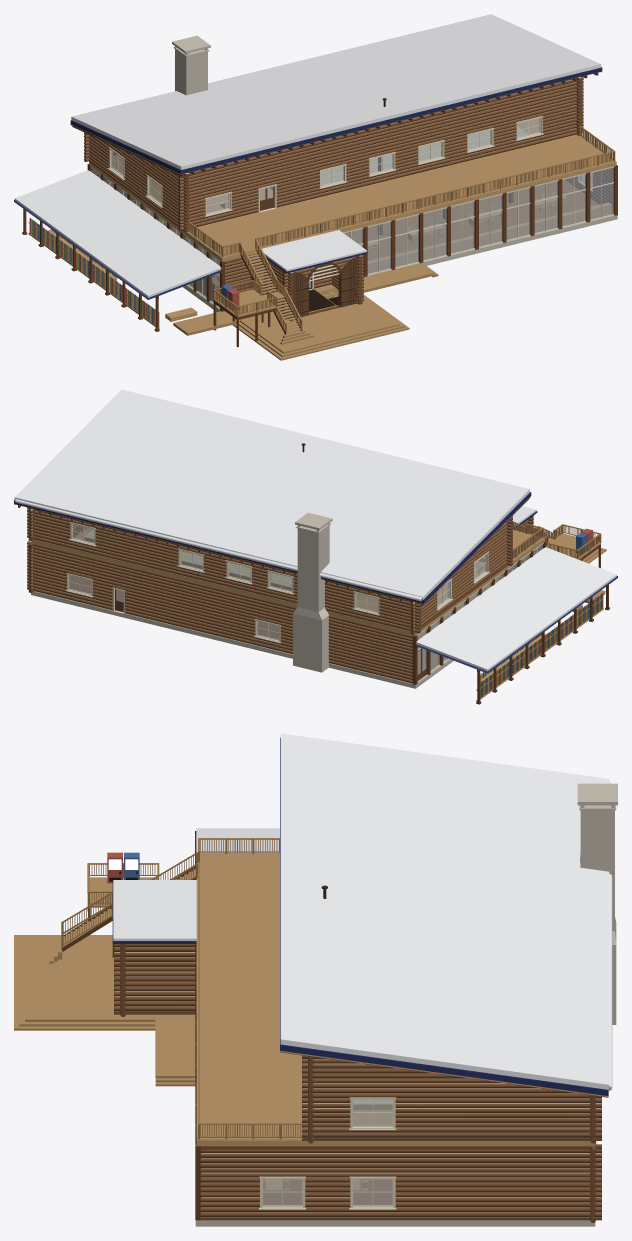
File: lodge.glb
3 views of the same model, one above another, from view 1: azimuth 30°, elevation 25°; view 2: azimuth 150°, elevation 25°; view 3: azimuth 270°, elevation 25° (orthographic). The views are drawn at different scales.
Parts seen in each view (by area): view 1: lodge_body, lodge_props_interior; view 2: lodge_body, lodge_props_interior; view 3: lodge_body, lodge_props_interior.
Boxes of the visible parts, left/top/right/bottom form: lodge_body: left=14, top=14, right=617, bottom=360; lodge_props_interior: left=135, top=127, right=612, bottom=311; lodge_body: left=14, top=389, right=617, bottom=704; lodge_props_interior: left=70, top=525, right=592, bottom=673; lodge_body: left=14, top=733, right=617, bottom=1226; lodge_props_interior: left=107, top=852, right=392, bottom=1204.
Size of the model in its own units: 53.59 by 15.74 by 38.9.
